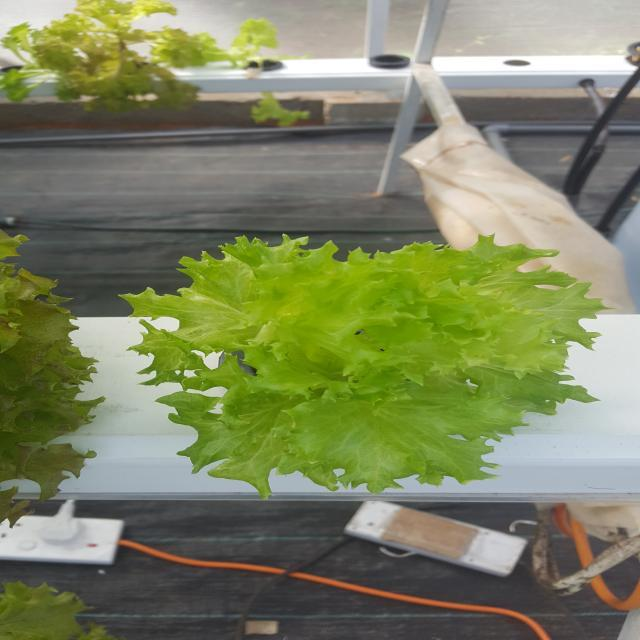Lettuce-Ready-to-Harvest: (115, 234, 602, 495)
